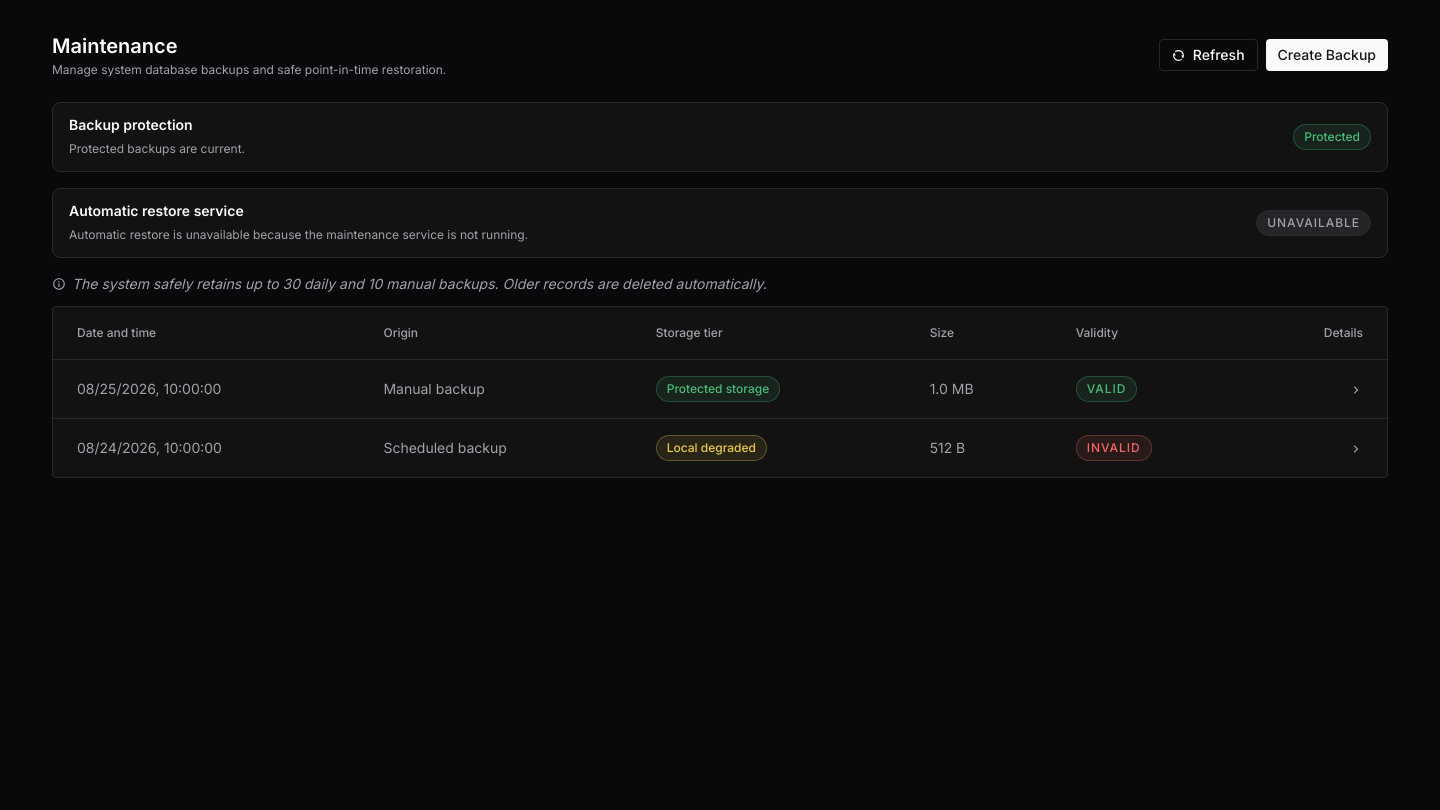
Test: Maintenance page restore point picker › disables the valid-row action when the supervised service is unavailable
This screenshot has width=1440, height=810.
Click the row that starts with "Manual backup" at coordinates (720, 389), box top-left (53, 360), bottom-right (1387, 418)
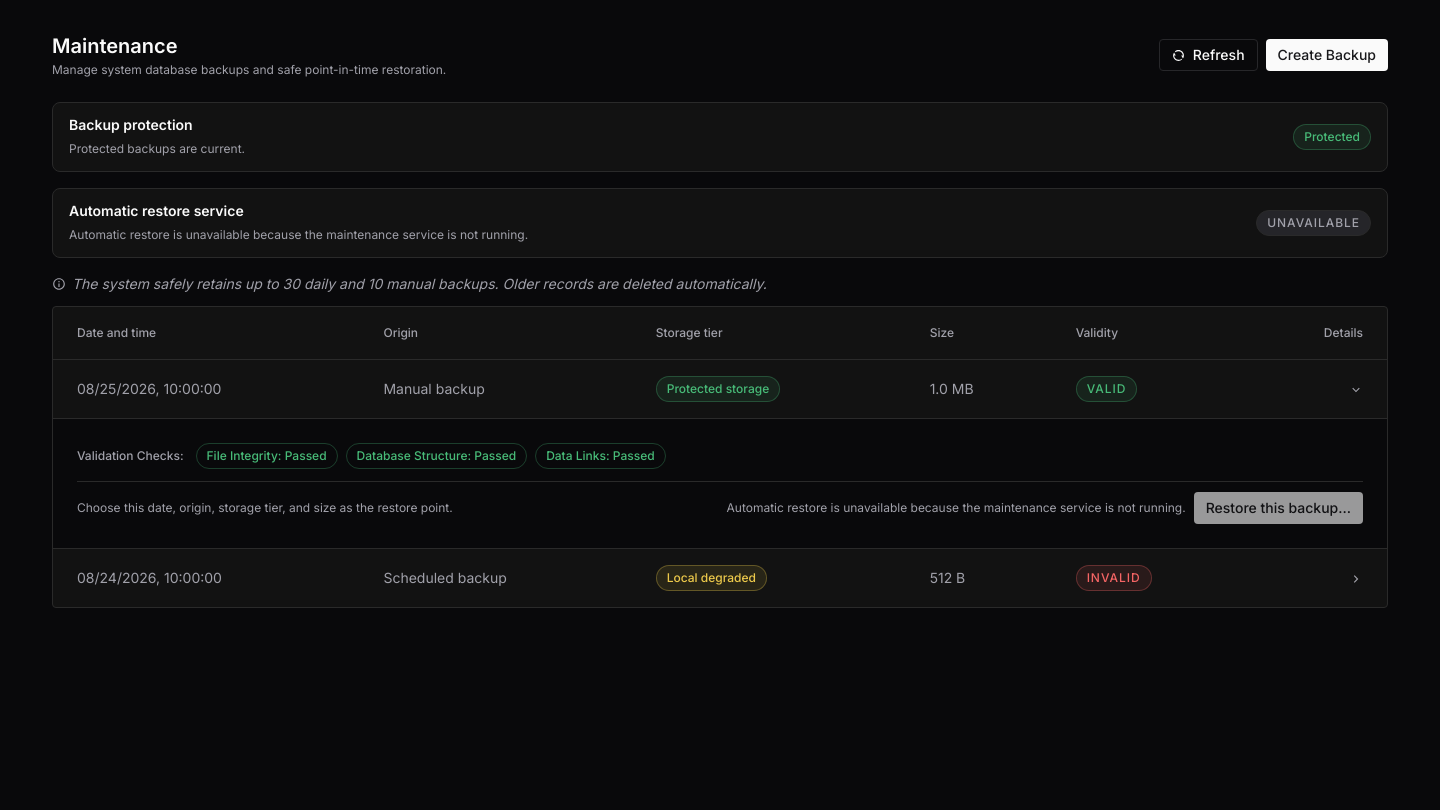
Expected: the text "Automatic restore is unavailable because the maintenance service is not running." below "Automatic restore service" is shown, top-left (69, 227), bottom-right (528, 242)
Result: the button "Restore this backup…" is disabled at top-left (1194, 492), bottom-right (1363, 524)
